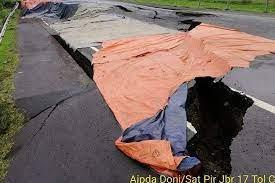Pothole: (148, 75, 248, 178), (50, 30, 110, 89), (112, 2, 171, 23), (179, 11, 211, 36)
